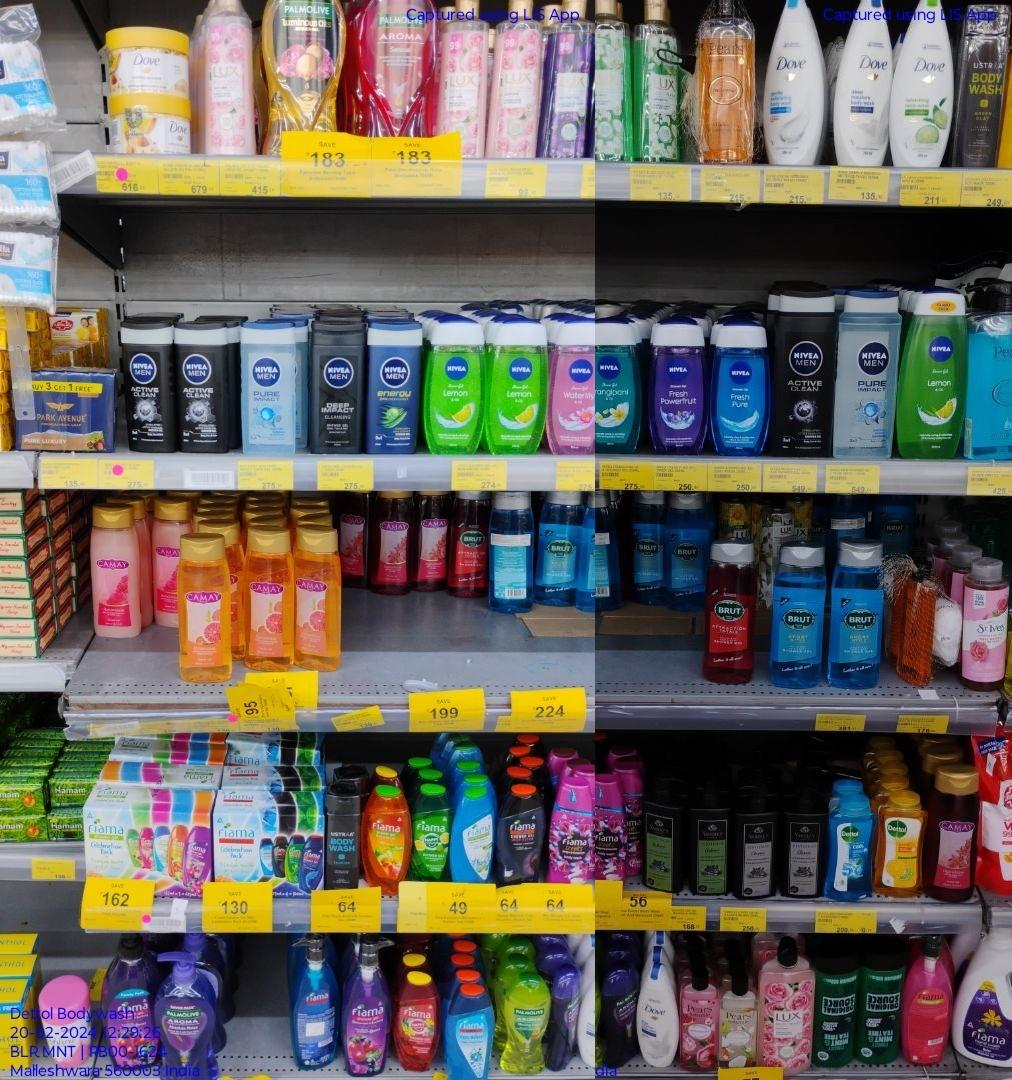Dettol_Bodywash_Cool: (822, 782, 872, 903)
Dettol_Bodywash_Refresh: (877, 787, 921, 895)
Dove_Deep_Moisture_Body_Wash_250ML: (832, 3, 894, 167), (640, 965, 678, 1068)
Dove_Gentle_Exfoliating_Body_Wash_250ML: (759, 0, 824, 165)
Dove_Refreshing_Body_Wash_250ML: (897, 0, 953, 165)
Lux_Black_Orchid_Scent_and_Juniper_Oil_Body_Wash_245ML: (542, 0, 593, 158)
Lux_Body_Wash_Skin_Detox_Freesia_Scent_and_Alove_Vera_245ML: (633, 1, 678, 162)
Nivea_Shower_Gel_Lemon_and_Oil_250ML: (897, 291, 964, 459)
Palmolive_Aroma_Morning_Tonic_Shower_Gel_250ML: (498, 983, 546, 1074)
Palmolive_Aroma_Relax_250ML: (605, 969, 636, 1066)
